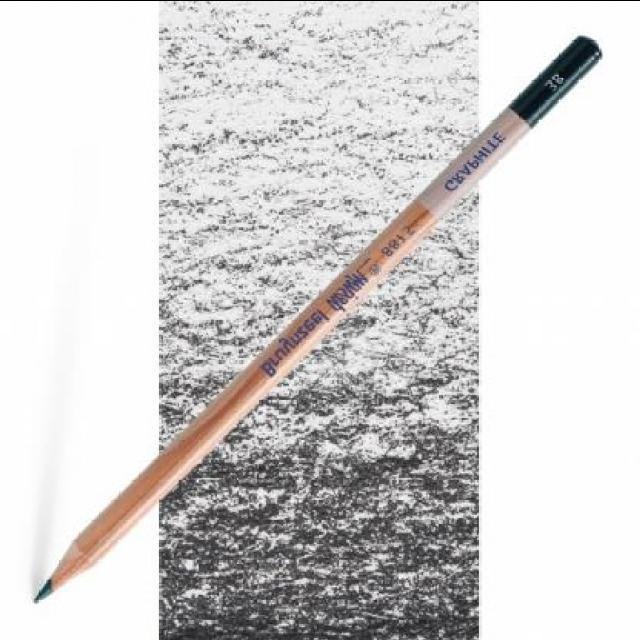Pencil: (23, 529, 111, 613)
